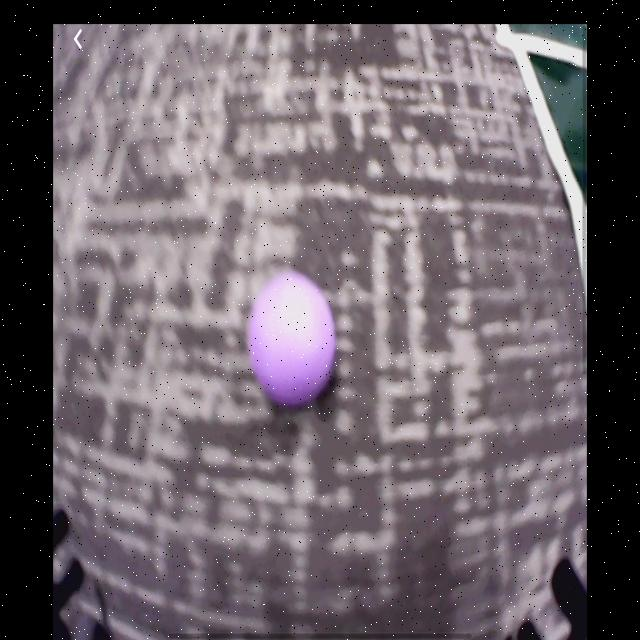ball: (250, 273, 337, 408)
